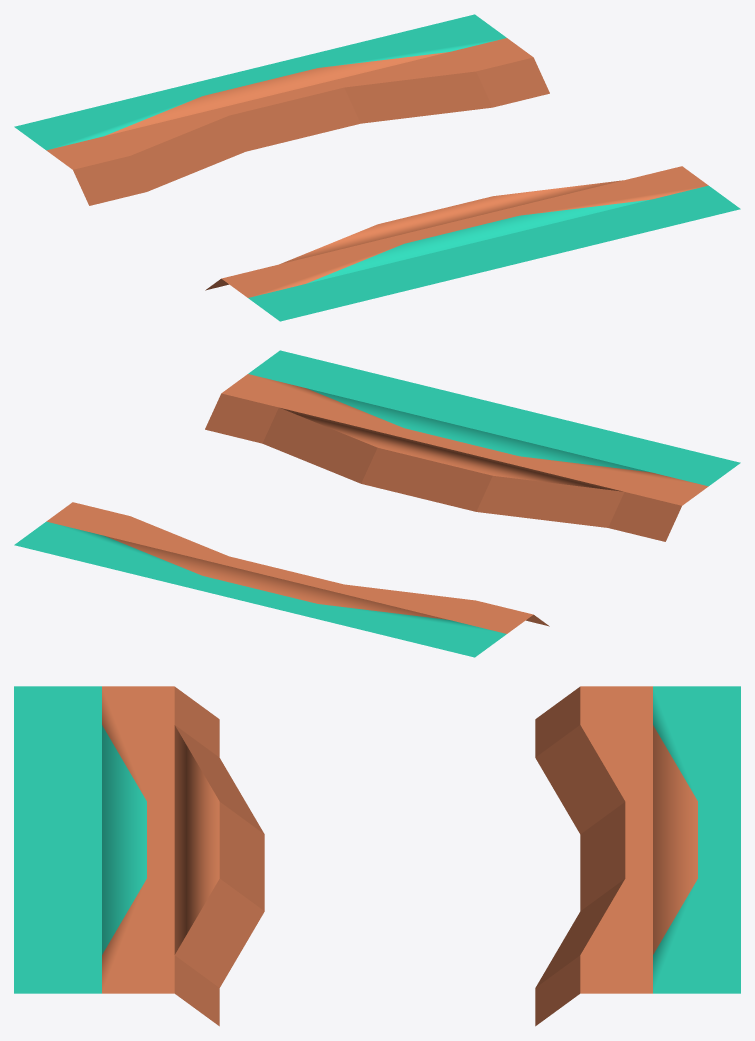
Rendered from beachsides.obj.
3 renders of one model, top to bottom at view 1: azimuth 30°, elevation 25°; view 2: azimuth 150°, elevation 25°; view 3: azimuth 270°, elevation 25°, orthographic. The views are drawn at different scales.
Visible parts, largest first — view 1: ground_riverStraight_ID11; view 2: ground_riverStraight_ID11; view 3: ground_riverStraight_ID11.
Boxes of the visible parts, x1,y1,x2,y2 form: ground_riverStraight_ID11: [14, 14, 740, 321]; ground_riverStraight_ID11: [14, 350, 740, 657]; ground_riverStraight_ID11: [14, 686, 740, 1026].
Size of the model in its own units: 1 by 0.05 by 1.
